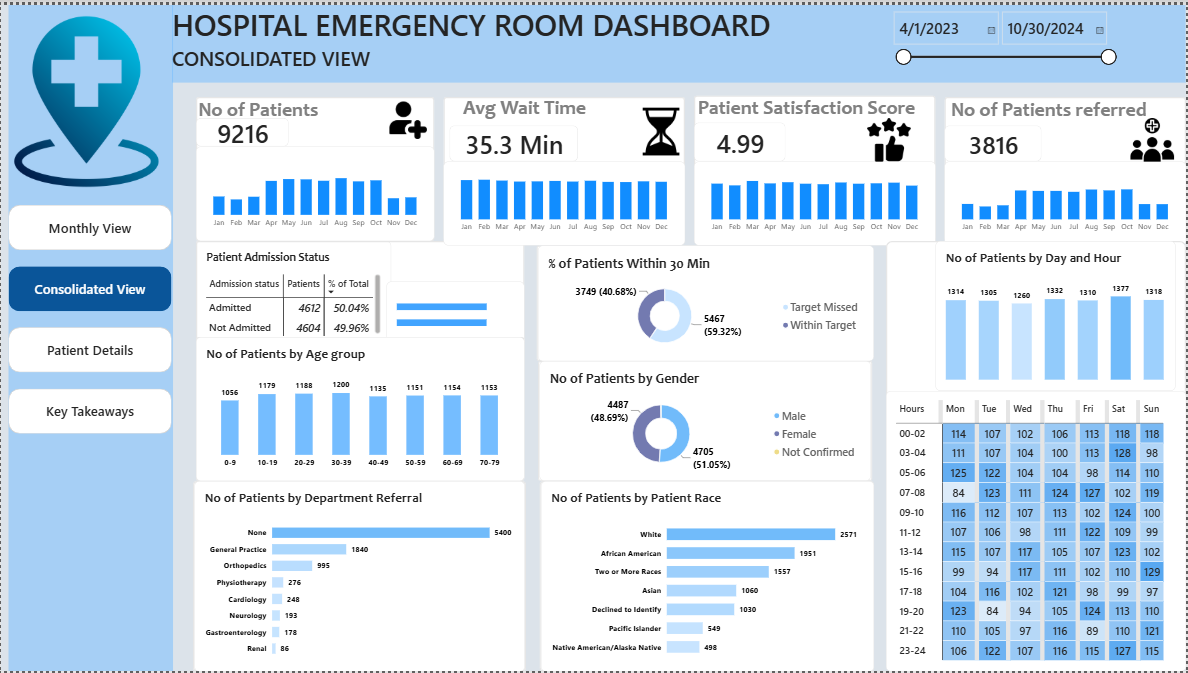

This screenshot's page, from the dashboard's own definition file:
{"tool":"powerbi","page":{"name":"Consolidated View","canvas":[1920,1080],"ordinal":1},"visuals":[{"type":"shape","box":[315.7,383.8,531.9,162.7],"z":0},{"type":"shape","box":[11.3,0,266.5,1080],"z":1000},{"type":"shape","box":[277.8,0,1641.3,127.6],"z":2000},{"type":"textbox","box":[277.8,0,1046,85],"z":3000},{"type":"shape","box":[315.7,150.6,386.2,233.2],"z":4000},{"type":"textbox","box":[276.9,65.6,383.8,63.1],"z":5000},{"type":"cardVisual","fields":{"Data":["Hospital ER_Data.No of Patients"]},"box":[315.7,184.6,150.6,46.1],"z":6000},{"type":"slicer","fields":{"Values":["Date Table.Date"]},"box":[1437.9,7.3,371.6,121.4],"z":7000},{"type":"textbox","box":[308.5,150.6,216.2,46.1],"z":9000},{"type":"columnChart","fields":{"Category":["Date Table.Month Name"],"Y":["Hospital ER_Data.No of Patients"]},"box":[315.7,230.7,386.2,153],"z":10000},{"type":"shape","box":[716.5,150.6,391,233.2],"z":12000},{"type":"cardVisual","fields":{"Data":["Hospital ER_Data.Avg Wait Time"]},"box":[726.2,196.7,208.9,58.3],"z":13000},{"type":"textbox","box":[735.9,148.2,223.5,41.3],"z":14000},{"type":"columnChart","fields":{"Category":["Date Table.Month Name"],"Y":["Avg(Hospital ER_Data.Patient Waittime)"]},"box":[716.5,255,391,136],"z":15000},{"type":"shape","box":[1122.1,148.2,391,235.6],"z":16000},{"type":"cardVisual","fields":{"Data":["Hospital ER_Data.Satisfaction Score"]},"box":[1122.1,191.9,148.2,63.1],"z":17000},{"type":"textbox","box":[1122.1,148.2,364.3,43.7],"z":18000},{"type":"columnChart","fields":{"Category":["Date Table.Month Name"],"Y":["Hospital ER_Data.Satisfaction Score"]},"box":[1122.1,255,391,136],"z":19000},{"type":"shape","box":[1527.7,150.6,391,233.2],"z":20000},{"type":"cardVisual","fields":{"Data":["Hospital ER_Data.No of Patient Referred"]},"box":[1527.7,196.7,157.9,58.3],"z":21000},{"type":"textbox","box":[1527.7,150.6,337.6,46.1],"z":22000},{"type":"columnChart","fields":{"Category":["Date Table.Month Name"],"Y":["Hospital ER_Data.No of Patient Referred"]},"box":[1527.7,255,391,136],"z":23000},{"type":"pivotTable","title":"Patient Admission Status","fields":{"Rows":["Hospital ER_Data.Admission status"],"Values":["Hospital ER_Data.No of Patients1","Hospital ER_Data.No of Patients"]},"box":[315.7,383.8,315.7,170],"z":24000},{"type":"barChart","fields":{"Category":["Hospital ER_Data.Admission status"],"Y":["Hospital ER_Data.No of Patients"]},"box":[624.2,449.3,223.5,104.4],"z":25000},{"type":"shape","box":[315.7,539.2,531.9,233.2],"z":26000},{"type":"columnChart","fields":{"Category":["Hospital ER_Data.Age group"],"Y":["Hospital ER_Data.No of Patients"]},"box":[315.7,539.2,531.9,233.2],"z":27000},{"type":"shape","box":[310.9,772.4,539.2,308.5],"z":28000},{"type":"clusteredBarChart","fields":{"Category":["Hospital ER_Data.Department Referral"],"Y":["Hospital ER_Data.No of Patients"]},"box":[313.3,772.4,534.3,308.5],"z":29000},{"type":"shape","box":[867.1,391,541.6,187],"z":30000},{"type":"donutChart","title":"% of Patients Within 30 Min","fields":{"Category":["Hospital ER_Data.Waittime"],"Y":["Hospital ER_Data.No of Patients"]},"box":[869.5,391,544.1,187],"z":31000},{"type":"shape","box":[869.5,578.1,541.6,194.3],"z":32000},{"type":"donutChart","title":"No of Patients by Gender","fields":{"Category":["Hospital ER_Data.Patient Gender"],"Y":["Hospital ER_Data.No of Patients"]},"box":[872,578.1,536.8,194.3],"z":33000},{"type":"shape","box":[872,772.4,541.6,308.5],"z":34000},{"type":"clusteredBarChart","fields":{"Category":["Hospital ER_Data.Patient Race"],"Y":["Hospital ER_Data.No of Patients"]},"box":[874.4,772.4,539.2,308.5],"z":35000},{"type":"shape","box":[1433,383.8,485.8,697.1],"z":36000},{"type":"pivotTable","fields":{"Columns":["Date Table.Day Name"],"Rows":["Hospital ER_Data.Waitime Interval"],"Values":["Hospital ER_Data.No of Patients"]},"box":[1433,626.6,485.8,454.2],"z":37000},{"type":"columnChart","title":"No of Patients by Day and Hour","fields":{"Category":["Date Table.Day Name"],"Y":["Hospital ER_Data.No of Patients"]},"box":[1513.2,383.8,388.6,242.9],"z":38000},{"type":"image","box":[1029.8,157.9,77.7,97.2],"z":39000},{"type":"image","box":[1809.5,184.6,109.3,70.4],"z":40000},{"type":"image","box":[1377.2,184.6,121.4,70.4],"z":41000},{"type":"image","box":[616.9,157.9,85,60.7],"z":42000},{"type":"image","box":[0,7.3,276.9,301.2],"z":43000},{"type":"pageNavigator","box":[12.1,325.5,264.7,371.6],"z":43001}]}

Visuals, with their boxes in screenshot pixels (x1, y1, x2, y2), scaled from the page's 1920x1080 canvas onto the 1188x673 screenshot:
shape: (195, 239, 524, 341)
shape: (7, 0, 172, 672)
shape: (172, 0, 1187, 80)
textbox: (172, 0, 819, 53)
shape: (195, 94, 434, 239)
textbox: (171, 41, 409, 80)
cardVisual - Hospital ER_Data.No of Patients: (195, 115, 289, 144)
slicer - Date Table.Date: (890, 5, 1120, 80)
textbox: (191, 94, 325, 123)
columnChart - Date Table.Month Name x Hospital ER_Data.No of Patients: (195, 144, 434, 239)
shape: (443, 94, 685, 239)
cardVisual - Hospital ER_Data.Avg Wait Time: (449, 123, 579, 159)
textbox: (455, 92, 594, 118)
columnChart - Date Table.Month Name x Avg(Hospital ER_Data.Patient Waittime): (443, 159, 685, 244)
shape: (694, 92, 936, 239)
cardVisual - Hospital ER_Data.Satisfaction Score: (694, 120, 786, 159)
textbox: (694, 92, 920, 120)
columnChart - Date Table.Month Name x Hospital ER_Data.Satisfaction Score: (694, 159, 936, 244)
shape: (945, 94, 1187, 239)
cardVisual - Hospital ER_Data.No of Patient Referred: (945, 123, 1043, 159)
textbox: (945, 94, 1154, 123)
columnChart - Date Table.Month Name x Hospital ER_Data.No of Patient Referred: (945, 159, 1187, 244)
"Patient Admission Status" pivotTable: (195, 239, 391, 345)
barChart - Hospital ER_Data.Admission status x Hospital ER_Data.No of Patients: (386, 280, 525, 345)
shape: (195, 336, 524, 481)
columnChart - Hospital ER_Data.Age group x Hospital ER_Data.No of Patients: (195, 336, 524, 481)
shape: (192, 481, 526, 672)
clusteredBarChart - Hospital ER_Data.Department Referral x Hospital ER_Data.No of Patients: (194, 481, 524, 672)
shape: (537, 244, 872, 360)
"% of Patients Within 30 Min" donutChart: (538, 244, 875, 360)
shape: (538, 360, 873, 481)
"No of Patients by Gender" donutChart: (540, 360, 872, 481)
shape: (540, 481, 875, 672)
clusteredBarChart - Hospital ER_Data.Patient Race x Hospital ER_Data.No of Patients: (541, 481, 875, 672)
shape: (887, 239, 1187, 672)
pivotTable - Date Table.Day Name x Hospital ER_Data.Waitime Interval: (887, 390, 1187, 672)
"No of Patients by Day and Hour" columnChart: (936, 239, 1177, 391)
image: (637, 98, 685, 159)
image: (1120, 115, 1187, 159)
image: (852, 115, 927, 159)
image: (382, 98, 434, 136)
image: (0, 5, 171, 192)
pageNavigator: (7, 203, 171, 434)
